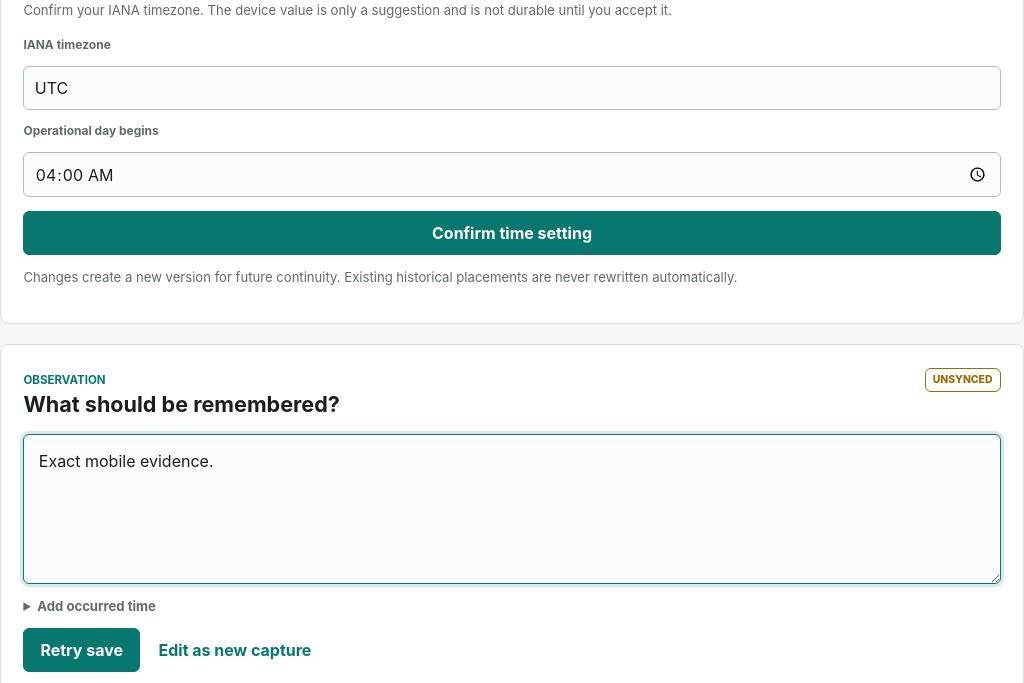
Test: ObservationCapture › recovers an uncertain draft and retries with the same text and identity
The width and height of the screenshot is (1024, 683).
Expected: the text box showing "Exact mobile evidence." is shown, [23,434,1001,584]
Click the button "Retry save": [82, 650] box [23,628,140,672]
(page scrolled)
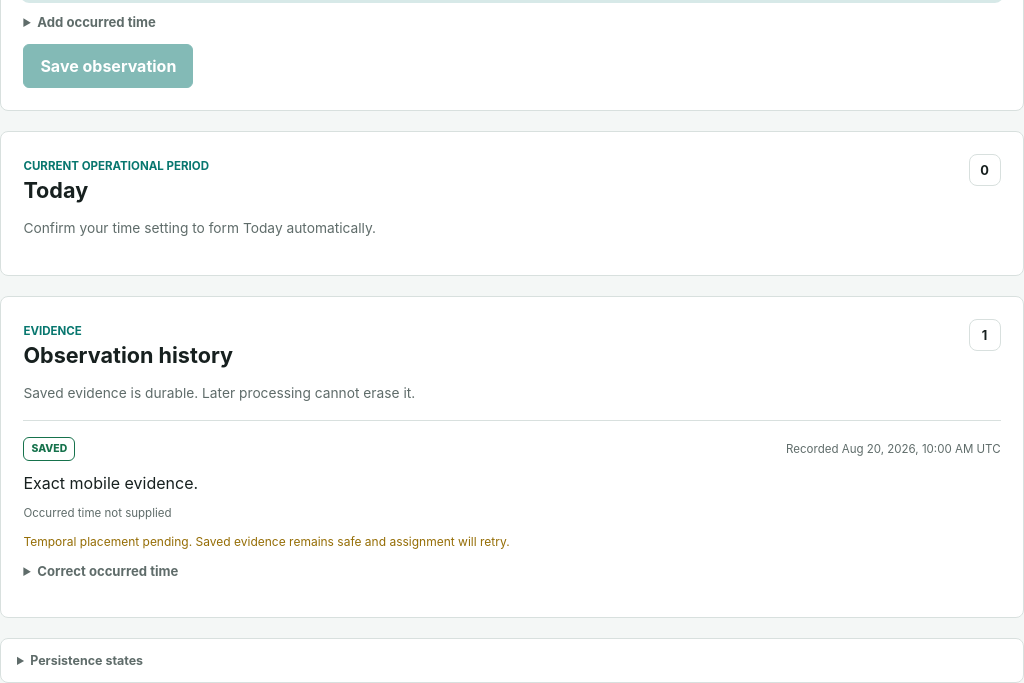
Now the text "Exact mobile evidence." is shown, box [23,473,198,493]
